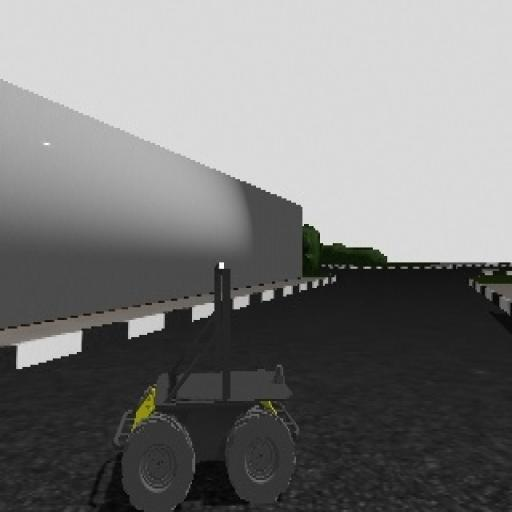huskya200: (76, 256, 294, 512)
